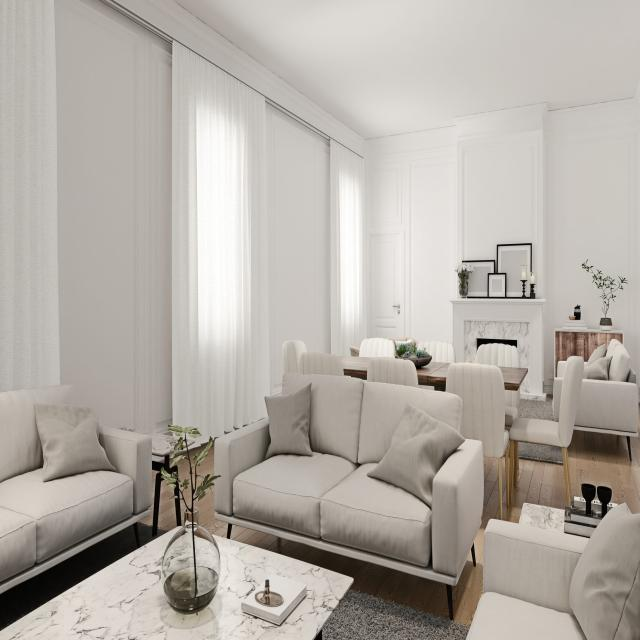white sofa: (206, 361, 487, 624), (3, 384, 156, 608)
